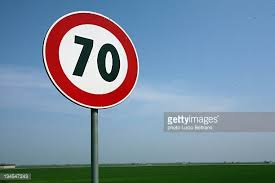Speed_limit_70km: (42, 9, 139, 107)
